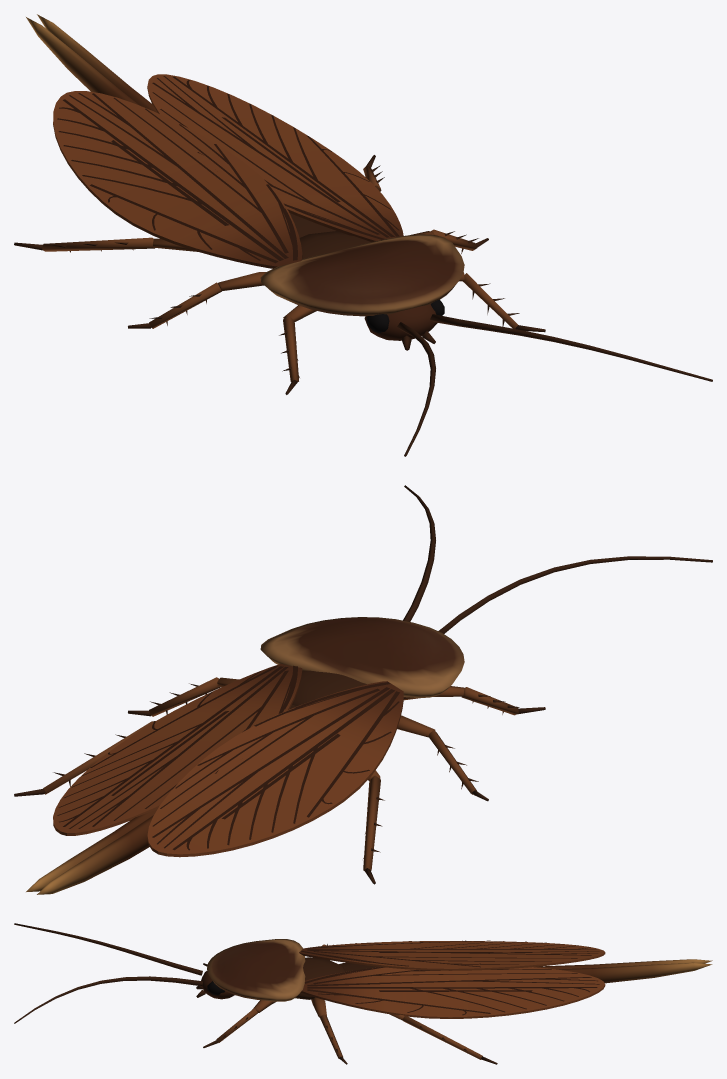
File: Anthracoblattina.fbx
3 views of the same model, one above another, from view 1: azimuth 30°, elevation 25°; view 2: azimuth 150°, elevation 25°; view 3: azimuth 270°, elevation 25° (orthographic). The views are drawn at different scales.
Visible parts, largest first — view 1: Anthracoblattina; view 2: Anthracoblattina; view 3: Anthracoblattina.
Part boxes in pixels (bbox=[...]): Anthracoblattina: bbox=[14, 14, 712, 456]; Anthracoblattina: bbox=[14, 485, 712, 894]; Anthracoblattina: bbox=[14, 923, 712, 1064].
Size of the model in its own units: 0.7844 by 0.1577 by 1.98.
